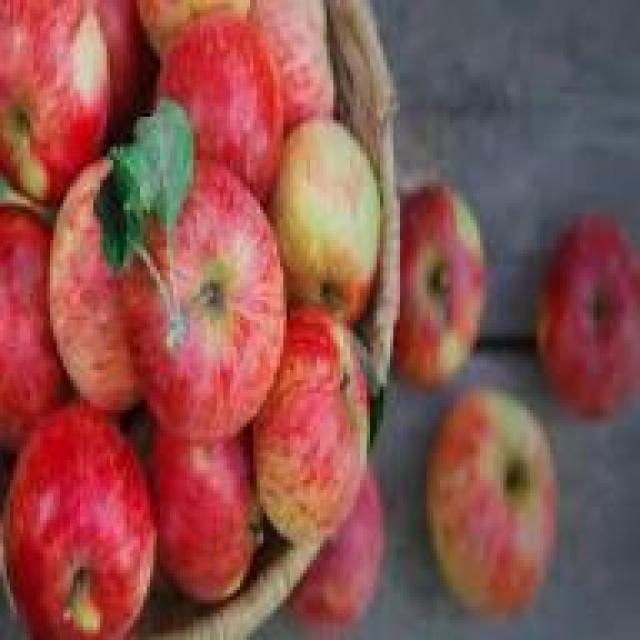apple: (130, 157, 280, 410), (3, 410, 157, 627), (246, 307, 376, 533), (427, 384, 560, 604), (36, 164, 156, 394), (150, 397, 277, 613), (390, 176, 490, 386), (160, 27, 280, 196), (266, 117, 376, 293), (530, 216, 640, 386)
